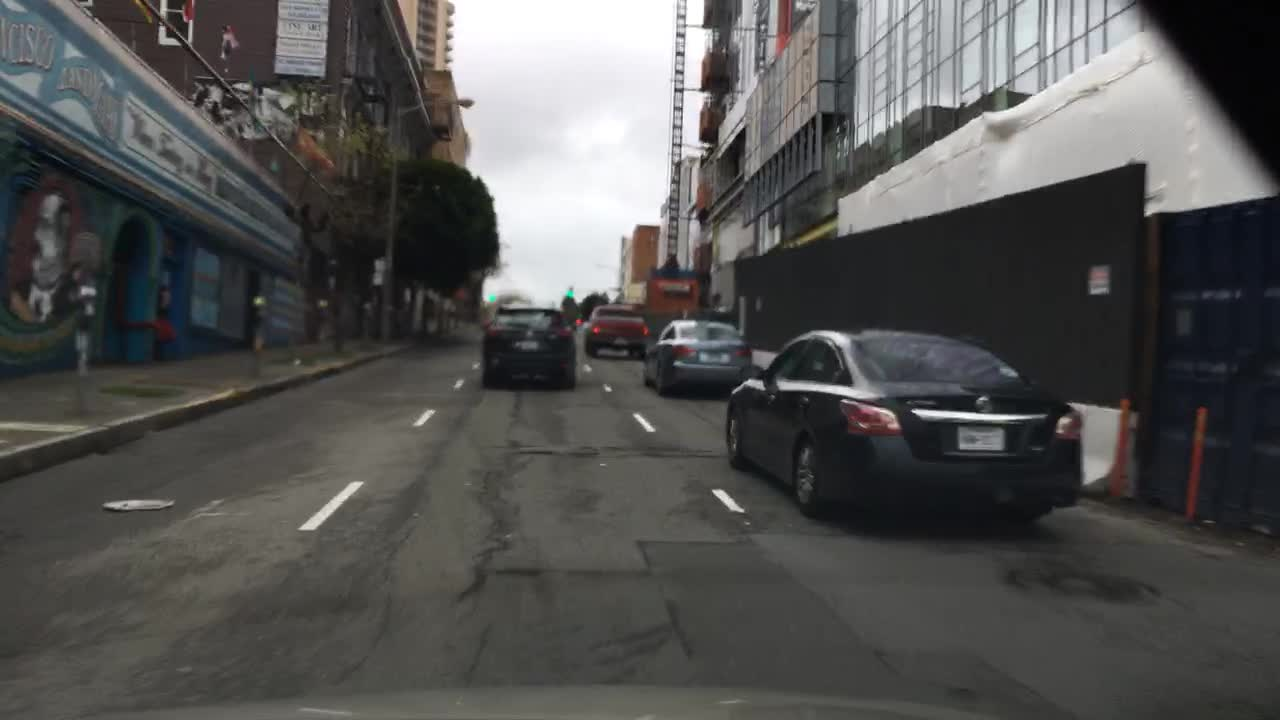car: (726, 324, 1086, 528), (644, 317, 754, 397), (478, 304, 574, 388), (586, 303, 649, 359)
traffic light: (565, 287, 574, 303)
